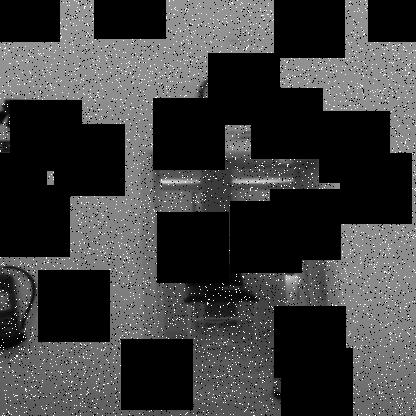Porte: (139, 145, 348, 415)
